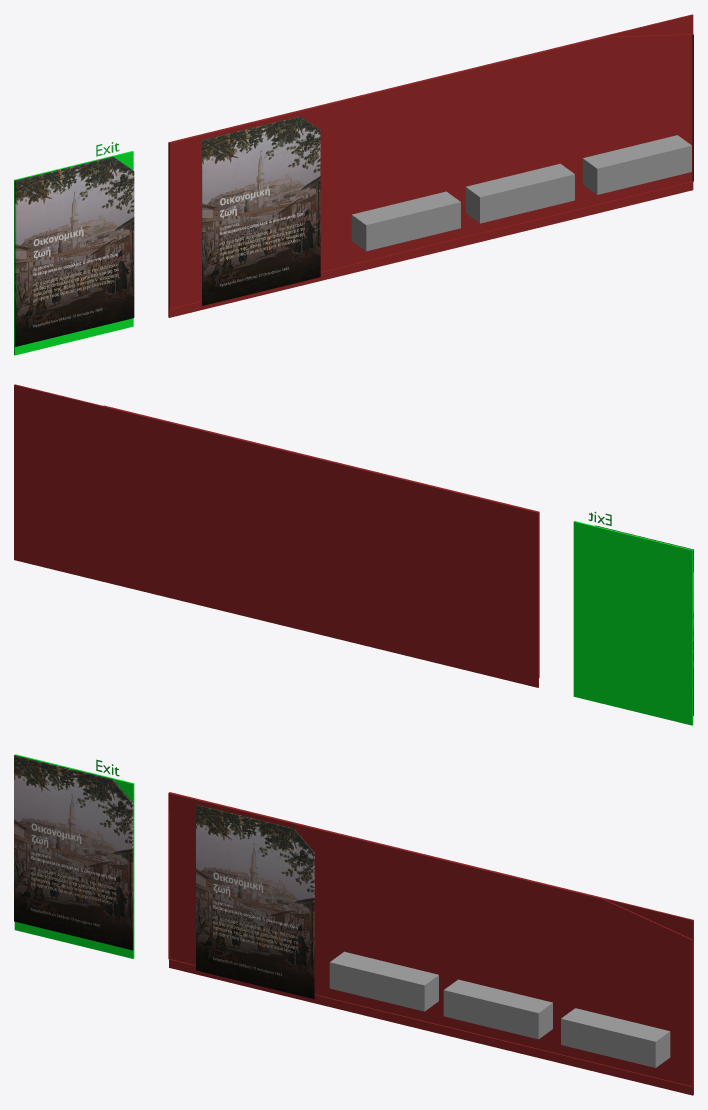
The model's file is Room1.glb.
The picture shows the model from 3 angles, top to bottom: view 1: azimuth 30°, elevation 25°; view 2: azimuth 150°, elevation 25°; view 3: azimuth 330°, elevation 25°; orthographic projection.
Visible parts, largest first — view 1: TAB_01, TAB_03, TAB_03.001, Cube.002, Cube, Cube.001; view 2: TAB_01, TAB_03; view 3: TAB_01, TAB_03, TAB_03.001, Cube.001, Cube, Cube.002.
Boxes of the visible parts, <box> form: TAB_01: <box>168,14,693,317</box>; TAB_03: <box>14,151,134,355</box>; TAB_03.001: <box>202,116,320,305</box>; Cube.002: <box>582,135,691,194</box>; Cube: <box>351,191,460,251</box>; Cube.001: <box>465,163,574,223</box>; TAB_01: <box>14,384,539,687</box>; TAB_03: <box>573,521,693,725</box>; TAB_01: <box>168,792,693,1095</box>; TAB_03: <box>14,754,134,958</box>; TAB_03.001: <box>196,804,314,999</box>; Cube.001: <box>443,979,552,1039</box>; Cube: <box>329,951,438,1011</box>; Cube.002: <box>561,1008,670,1067</box>.
Size of what is drawn, in the model's own units: 12.57 by 3.37 by 0.6105.
Materials: 5 (1 with a texture image).
